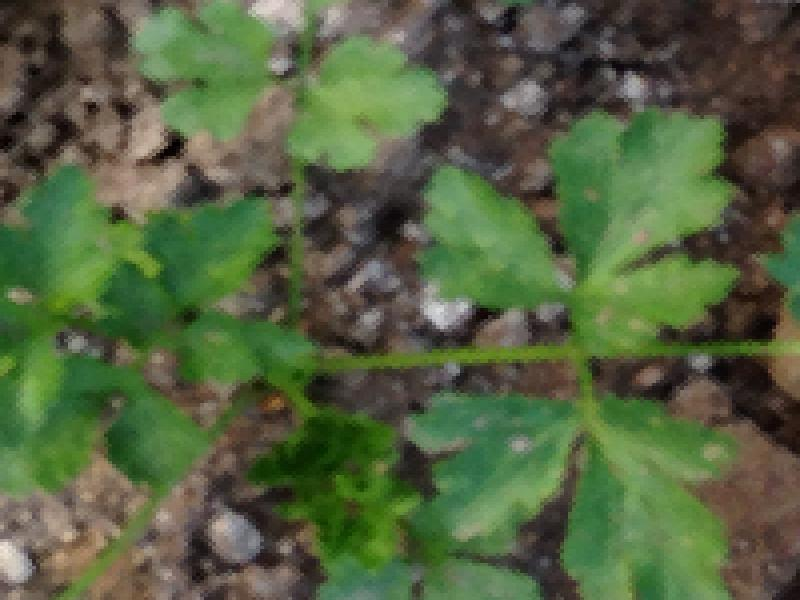radish: (66, 0, 800, 566)
